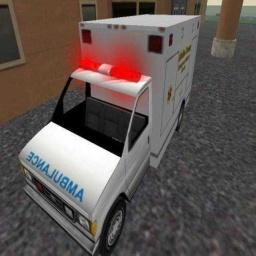Ambulance: (19, 15, 199, 254)
